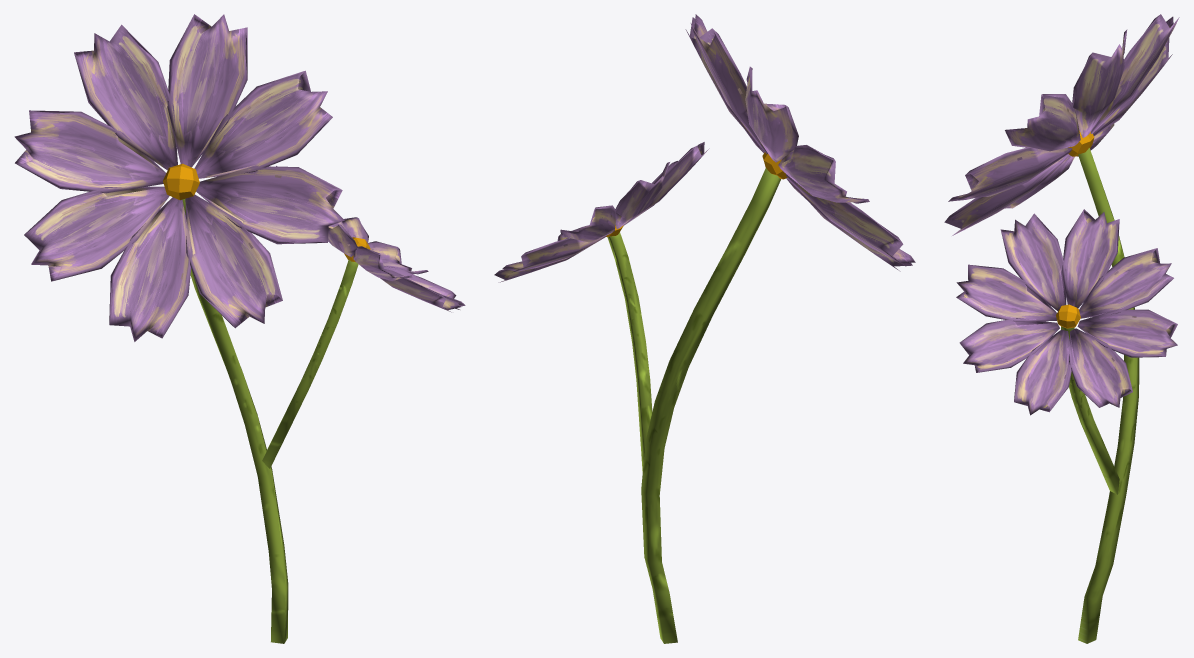
File: FlorPrueba_13.fbx
3 views of the same model, side by side, from view 1: azimuth 30°, elevation 25°; view 2: azimuth 150°, elevation 25°; view 3: azimuth 270°, elevation 25° (orthographic). The views are drawn at different scales.
Parts seen in each view (by area): view 1: Flor2.001; view 2: Flor2.001; view 3: Flor2.001.
Boxes of the visible parts, bbox=[...] form: Flor2.001: bbox=[14, 14, 465, 643]; Flor2.001: bbox=[494, 14, 915, 643]; Flor2.001: bbox=[944, 14, 1179, 643].
Bounding box in the file's own units: 1.59 × 2.39 × 0.8768.
